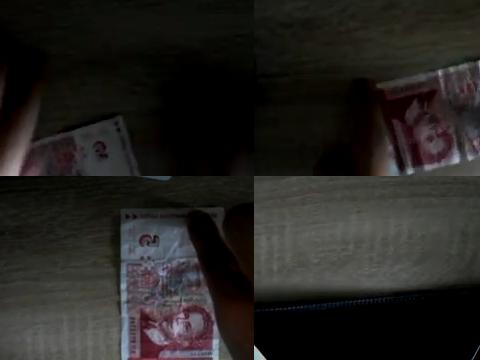5leva: (119, 207, 222, 360), (378, 59, 480, 176), (20, 114, 144, 176)
